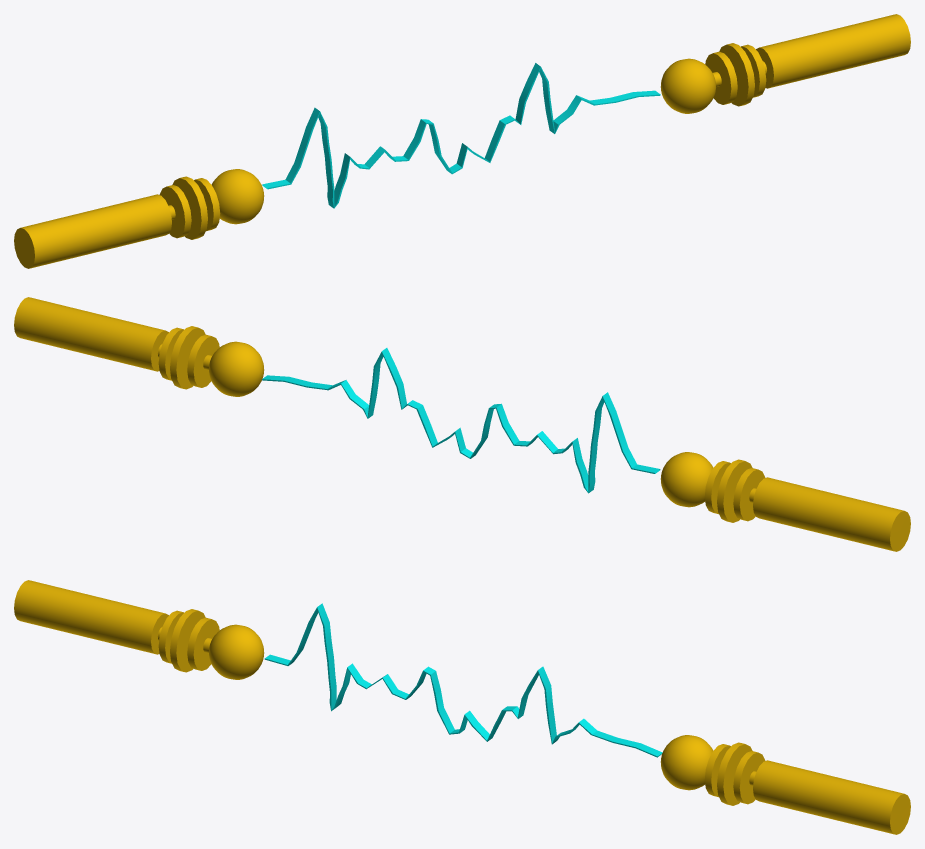
The model's file is DuckingLightning_Obstacle_1.fbx.
3 renders of one model, top to bottom at view 1: azimuth 30°, elevation 25°; view 2: azimuth 150°, elevation 25°; view 3: azimuth 330°, elevation 25°, orthographic.
Visible parts, largest first — view 1: pCube31; view 2: pCube31; view 3: pCube31.
Part boxes in pixels (box(x1,y1,x2,y2)): pCube31: box(14, 14, 910, 268); pCube31: box(14, 297, 910, 551); pCube31: box(14, 580, 910, 834).
Bounding box in the file's own units: 111 × 12.18 × 6.94.
